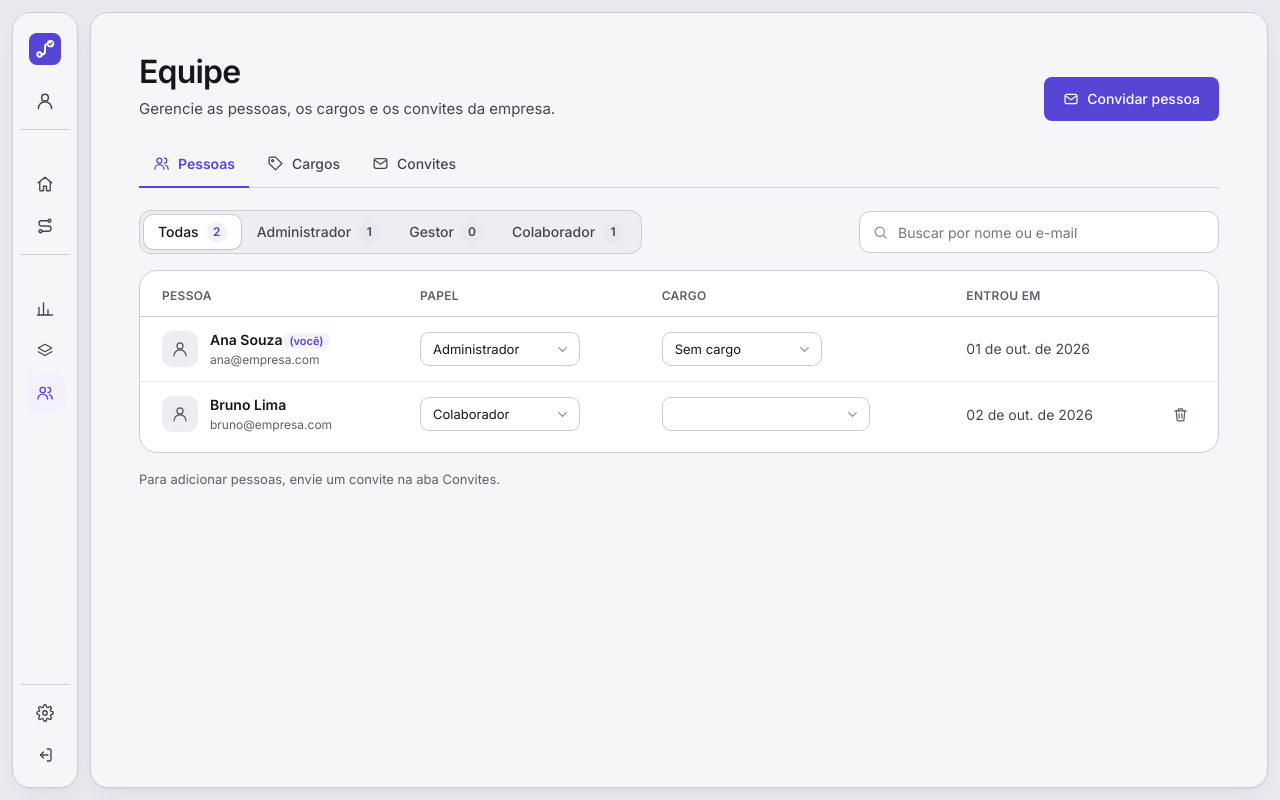
Scenario: equipe: pessoas › remove uma pessoa depois de confirmar
What coordinates should you click on to do the following:
click the button named "Remover"
I would click on:
 (1180, 414)
Its box is x1=1164 y1=398 x2=1196 y2=430.
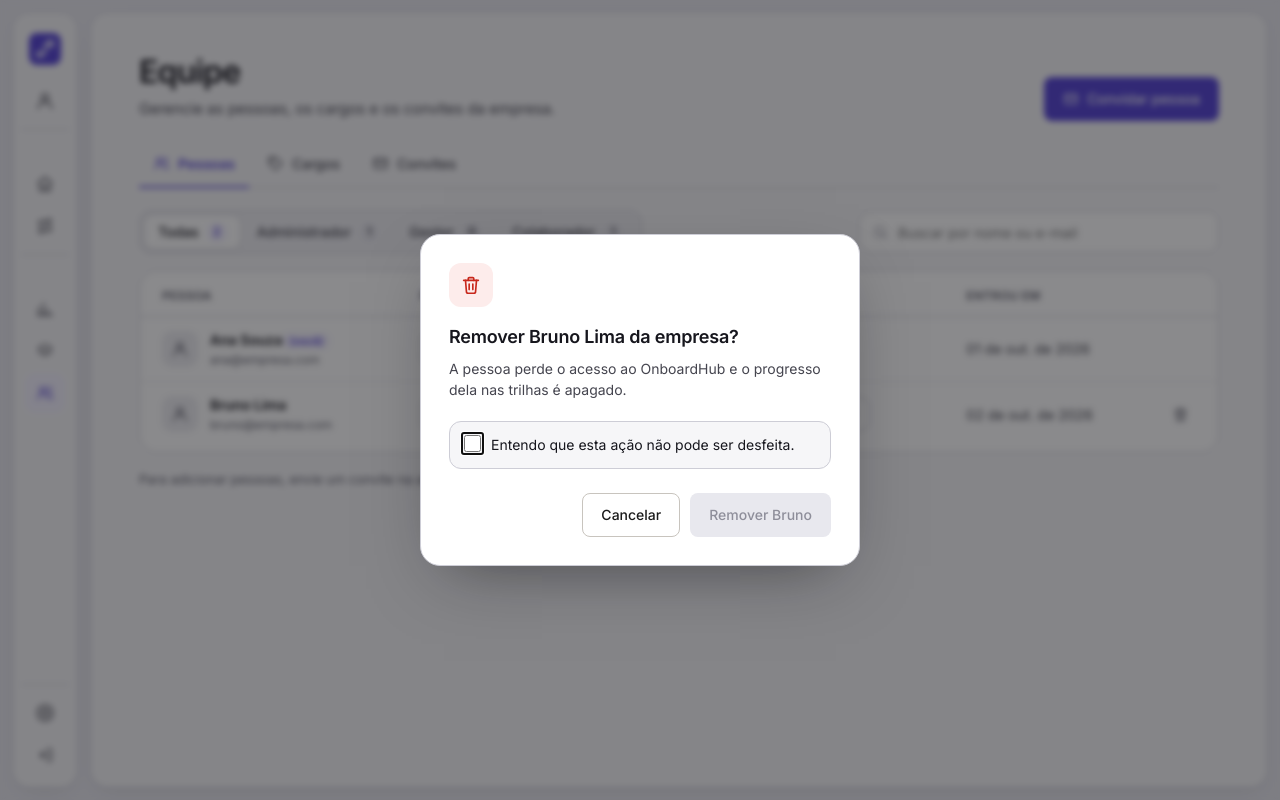
Result: the button "Remover Bruno" is disabled at x1=690 y1=493 x2=831 y2=537
What coordinates should you click on to do the following:
click the checkbox labelled "Entendo que esta ação não pode ser desfeita."
I would click on:
 (472, 444)
Its box is x1=464 y1=435 x2=481 y2=452.
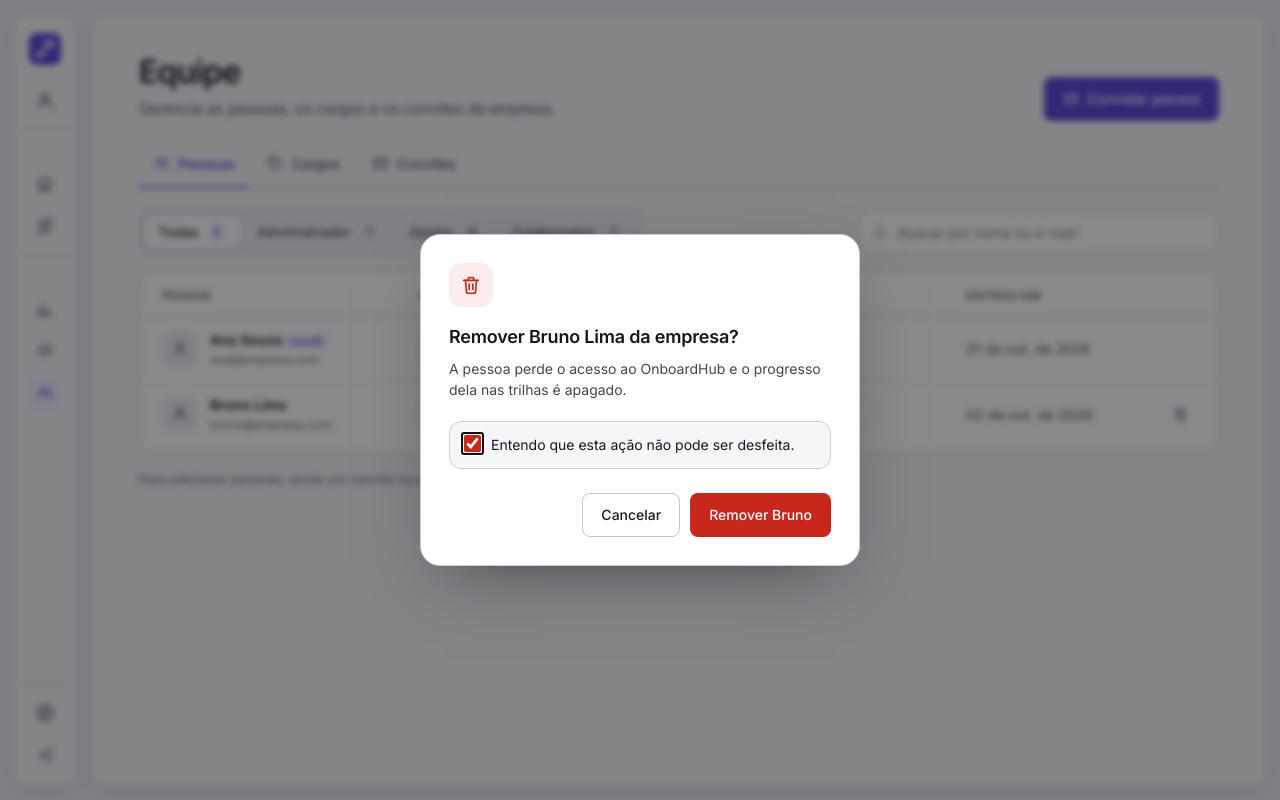
What coordinates should you click on to do the following:
click the button "Remover Bruno"
I would click on:
 (761, 515)
Its box is x1=690 y1=493 x2=831 y2=537.
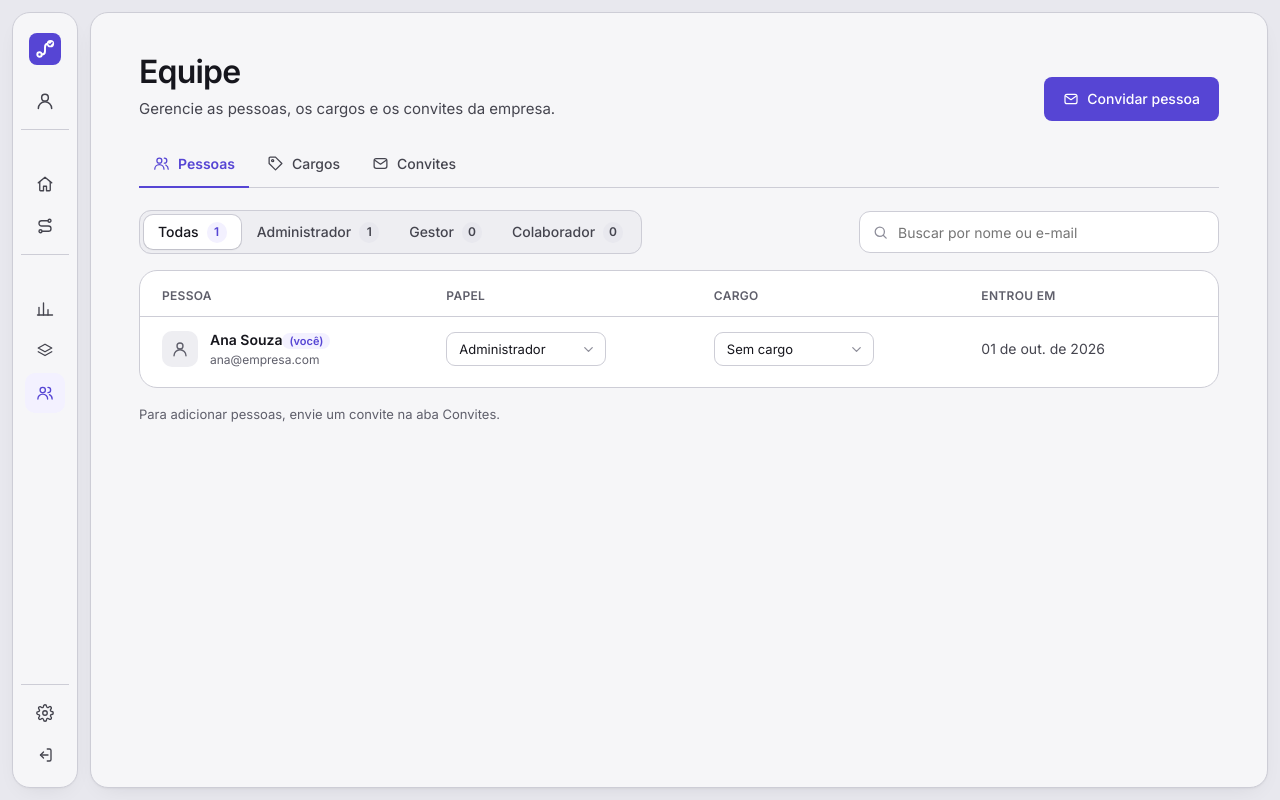
Result: the text "Bruno Lima" is gone
